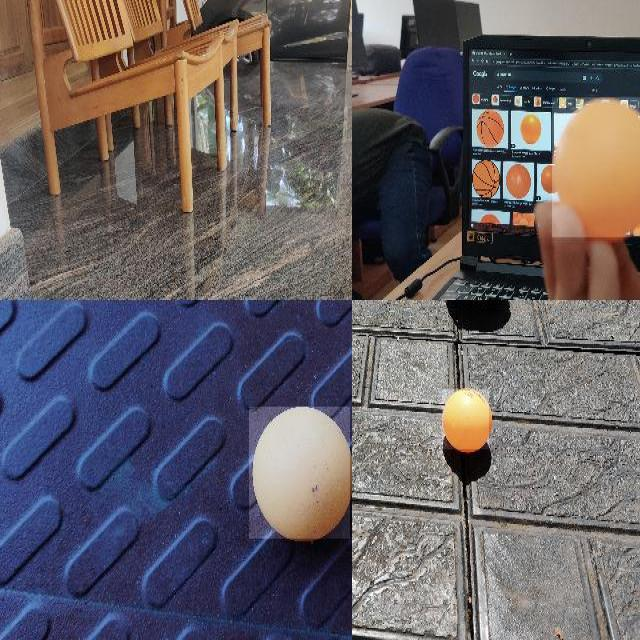ping-pong-ball: (248, 407, 352, 540), (551, 97, 639, 240), (442, 389, 490, 451)
